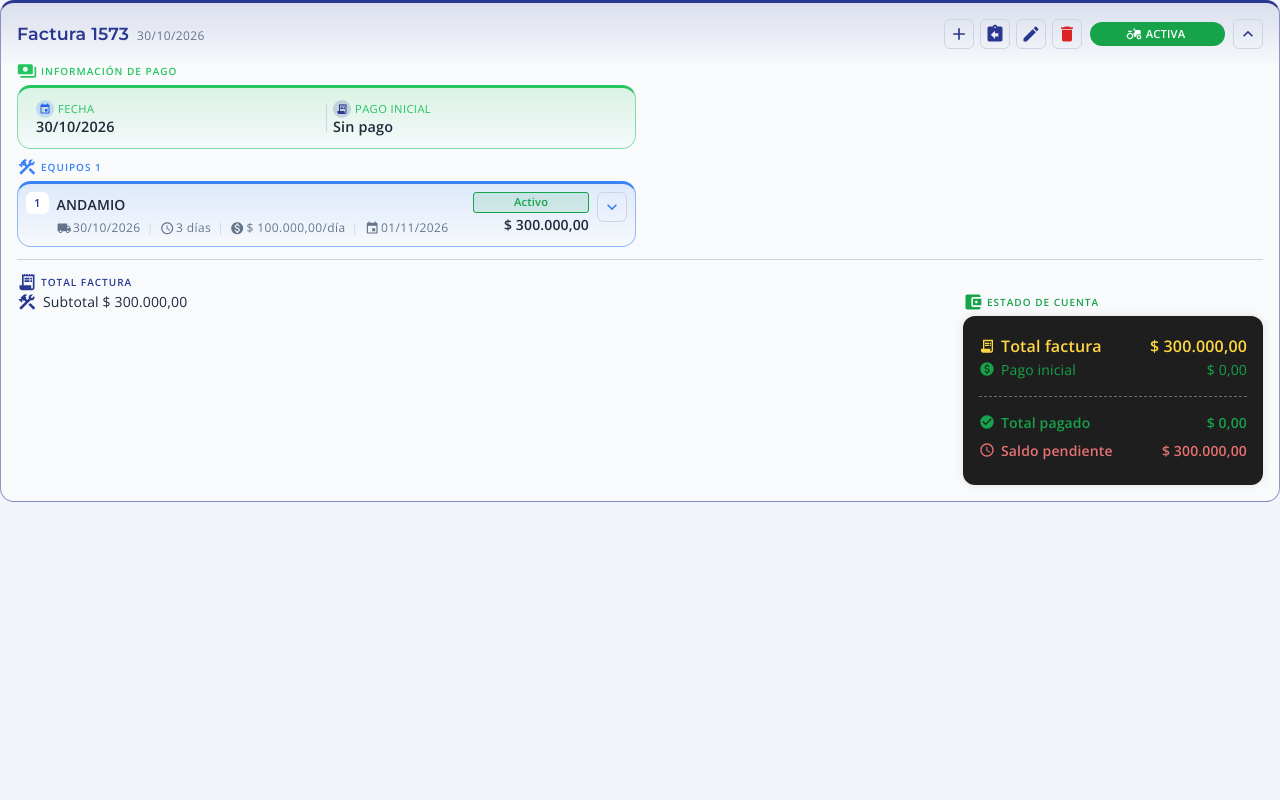
it: FacturaCard — lo que muestra › muestra las condiciones del equipo y guarda su historia bajo la flecha
Check: the text "3 días" is shown, box [176, 218, 211, 238]
Check: the text "Salida en alquiler" is not shown
Click the button with test id "ExpandMoreIcon": (612, 207) [597, 192, 627, 222]
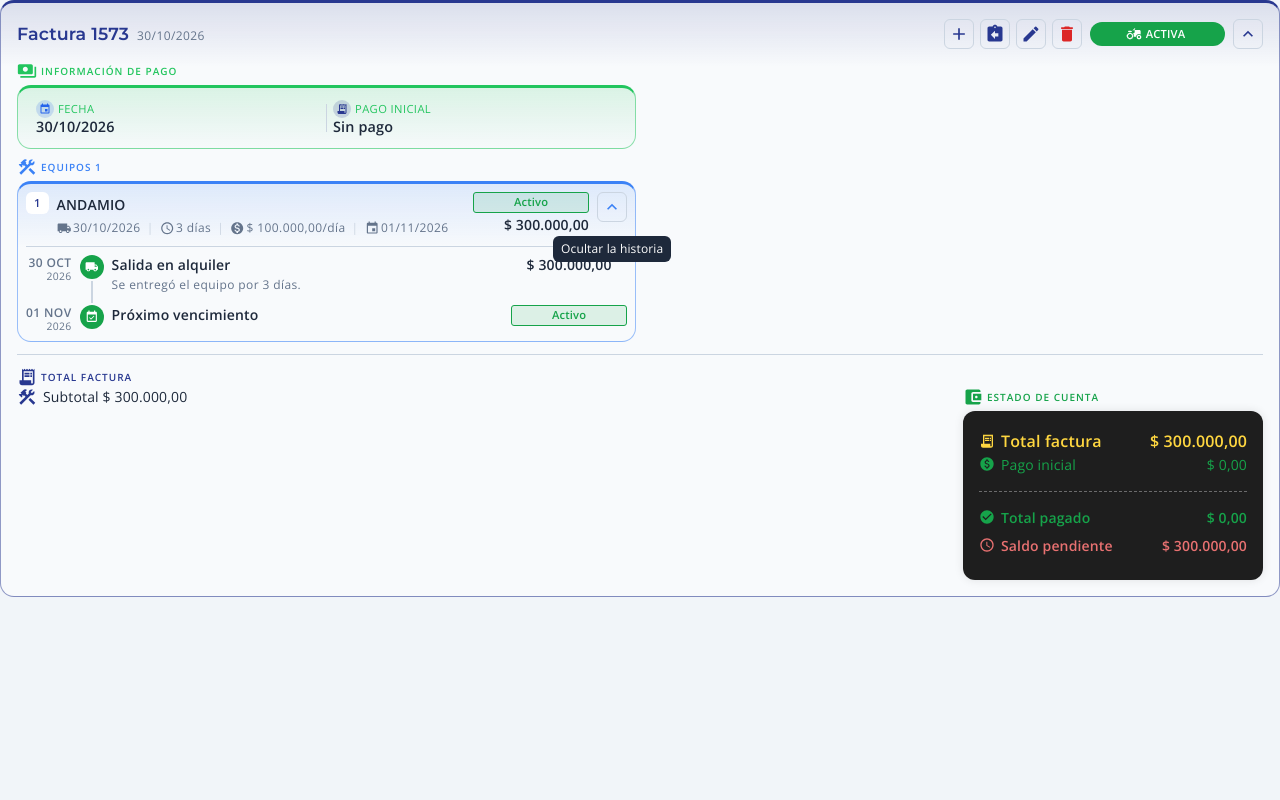
Check: the text "Salida en alquiler" is shown, box [112, 255, 231, 274]
Check: the text "Se entregó el equipo por 3 días." is shown, box [112, 276, 301, 293]
